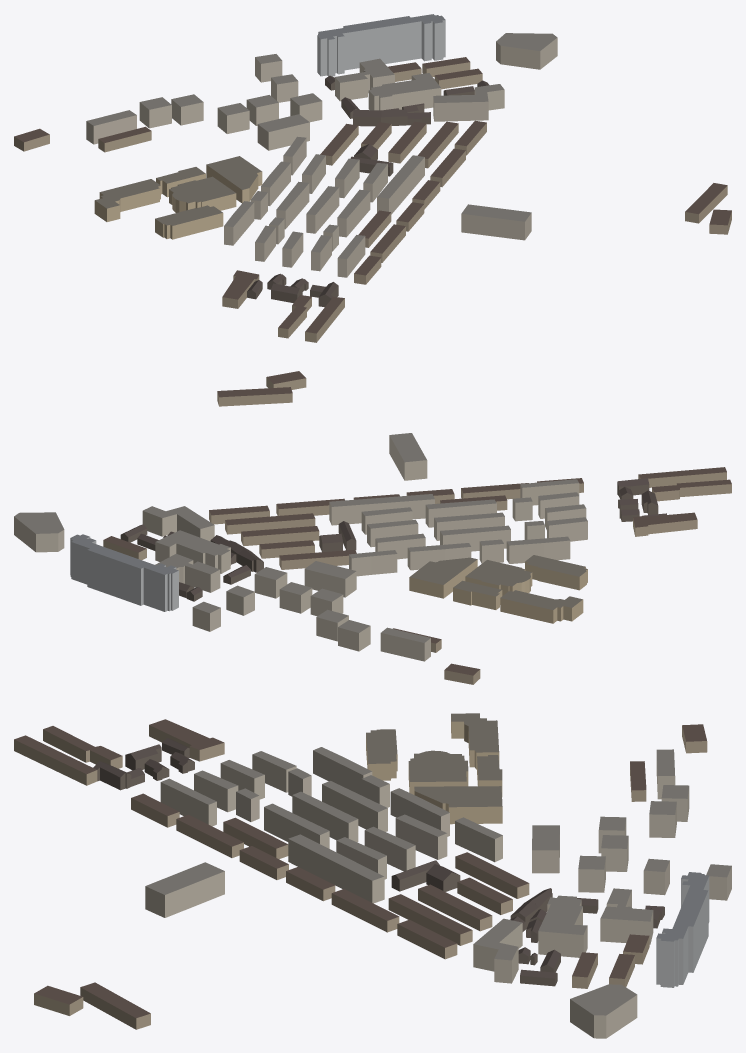
Rendered from tile_7_3.glb.
The picture shows the model from 3 angles, top to bottom: view 1: azimuth 30°, elevation 25°; view 2: azimuth 150°, elevation 25°; view 3: azimuth 270°, elevation 25°; orthographic projection. The views are drawn at different scales.
Parts seen in each view (by area): view 1: HP-w1435559506, HP-w495771217, HP-w1318371765, HP-w1286965355, HP-w1515071131, HP-w1511175634, HP-w1511175632, HP-w1511175635, HP-w1510928794, HP-w1515071129, HP-w859488714, HP-w1286956094 (+37 smaller); view 2: HP-w1435559506, HP-w1511175632, HP-w1515071131, HP-w859488714, HP-w1510928794, HP-w1286965355, HP-w1318371765, HP-w1511175634, HP-w1511175635, HP-w495771217, HP-w729793776, HP-w1286956094 (+37 smaller); view 3: HP-w1435559506, HP-w859488714, HP-w495771217, HP-w1286965355, HP-w1510928794, HP-w1515071131, HP-w1318371765, HP-w1515071129, HP-w1511175634, HP-w729793769, HP-w1511175632, HP-w729793768 (+51 smaller).
Boxes of the visible parts, x1=… form: HP-w1435559506: x1=317, y1=14, x2=445, y2=76; HP-w495771217: x1=461, y1=204, x2=531, y2=240; HP-w1318371765: x1=433, y1=84, x2=504, y2=121; HP-w1286965355: x1=496, y1=33, x2=557, y2=69; HP-w1515071131: x1=368, y1=73, x2=441, y2=110; HP-w1511175634: x1=169, y1=176, x2=236, y2=212; HP-w1511175632: x1=94, y1=179, x2=160, y2=221; HP-w1511175635: x1=155, y1=205, x2=223, y2=239; HP-w1510928794: x1=206, y1=156, x2=262, y2=203; HP-w1515071129: x1=335, y1=58, x2=394, y2=101; HP-w859488714: x1=377, y1=155, x2=424, y2=214; HP-w1286956094: x1=257, y1=114, x2=309, y2=150; HP-w1435559506: x1=70, y1=534, x2=178, y2=611; HP-w1511175632: x1=500, y1=590, x2=583, y2=623; HP-w1515071131: x1=155, y1=530, x2=230, y2=573; HP-w859488714: x1=329, y1=494, x2=434, y2=525; HP-w1510928794: x1=409, y1=557, x2=477, y2=598; HP-w1286965355: x1=14, y1=512, x2=64, y2=552; HP-w1318371765: x1=142, y1=506, x2=214, y2=541; HP-w1511175634: x1=465, y1=560, x2=532, y2=595; HP-w1511175635: x1=525, y1=555, x2=587, y2=590; HP-w495771217: x1=389, y1=433, x2=427, y2=480; HP-w729793776: x1=506, y1=536, x2=570, y2=563; HP-w1286956094: x1=304, y1=561, x2=356, y2=597; HP-w1435559506: x1=656, y1=872, x2=709, y2=987; HP-w859488714: x1=288, y1=834, x2=384, y2=903; HP-w495771217: x1=145, y1=862, x2=224, y2=917; HP-w1286965355: x1=570, y1=984, x2=637, y2=1038; HP-w1510928794: x1=414, y1=786, x2=502, y2=824; HP-w1515071131: x1=538, y1=895, x2=587, y2=957; HP-w1318371765: x1=473, y1=918, x2=522, y2=983; HP-w1515071129: x1=600, y1=888, x2=653, y2=944; HP-w1511175634: x1=408, y1=750, x2=468, y2=794; HP-w729793769: x1=292, y1=791, x2=358, y2=842; HP-w1511175632: x1=451, y1=713, x2=499, y2=769; HP-w729793768: x1=322, y1=781, x2=387, y2=831.
Bounding box in the file's own units: 515 × 36 × 507.
